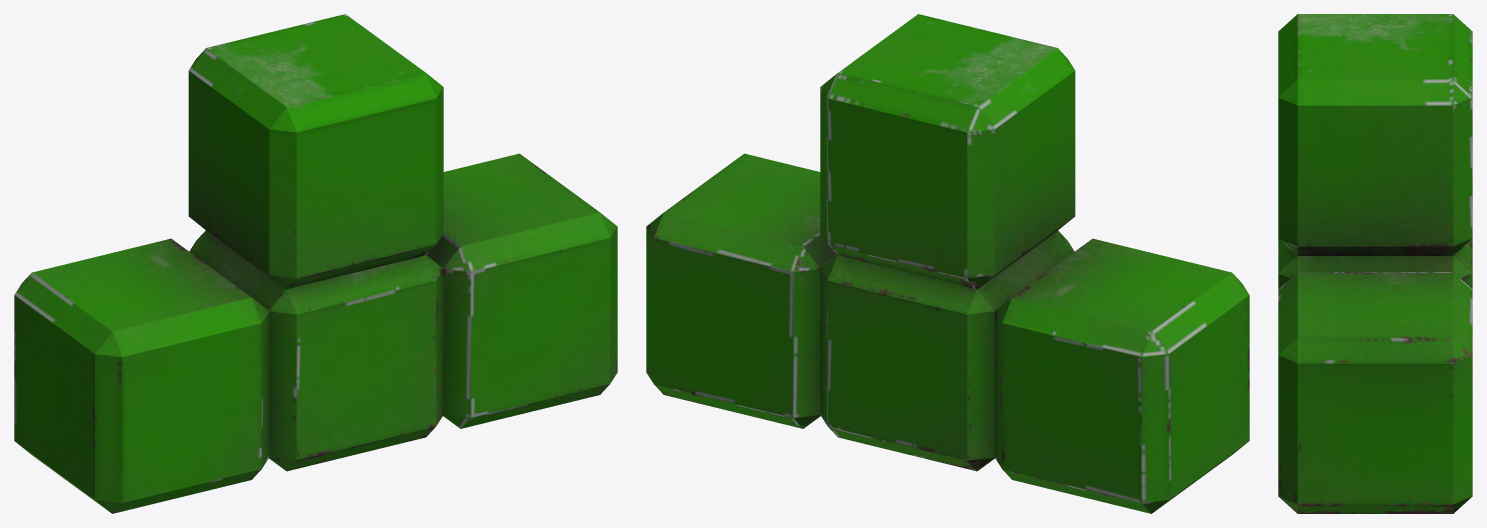
The model's file is blocks_2.fbx.
3 views of the same model, side by side, from view 1: azimuth 30°, elevation 25°; view 2: azimuth 150°, elevation 25°; view 3: azimuth 270°, elevation 25° (orthographic). The views are drawn at different scales.
Visible parts, largest first — view 1: polySurface9; view 2: polySurface9; view 3: polySurface9.
Boxes of the visible parts, x1,y1,x2,y2 form: polySurface9: (14,14,617,513); polySurface9: (646,14,1249,513); polySurface9: (1278,14,1472,513).
Size of the model in its own units: 3 by 2 by 1.
